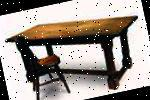Mesa: (5, 4, 149, 99)
Silla: (14, 28, 71, 99)
